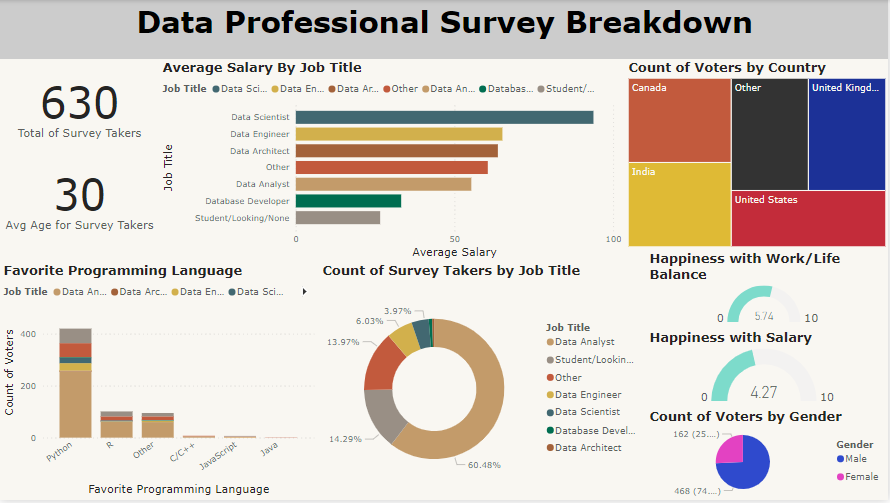

Layout of this report page (visuals, bound fields, positions):
{"tool":"powerbi","page":{"name":"Page 1","canvas":[1280,720],"ordinal":0},"visuals":[{"type":"textbox","box":[0,0,1280.2,85],"z":0},{"type":"card","fields":{"Values":["Count(Data Professional Survey.Unique ID)"]},"box":[701.3,85,229,151.2],"z":1000},{"type":"card","fields":{"Values":["Avg(Data Professional Survey.Q10 - Current Age)"]},"box":[701.3,223.2,229,136.8],"z":2000},{"type":"barChart","title":"Average Salary By Job Title","fields":{"Category":["Data Professional Survey.Q1 - Which Title Best Fits your Current Role?.1"],"Y":["Avg(Data Professional Survey.Average Salary)"],"Series":["Data Professional Survey.Q1 - Which Title Best Fits your Current Role?.1"]},"box":[216,85,485.3,275],"z":3000},{"type":"columnChart","title":"Favorite Programming Language","fields":{"Category":["Data Professional Survey.Q5 - Favorite Programming Language.1"],"Y":["CountNonNull(Data Professional Survey.Unique ID)"],"Series":["Data Professional Survey.Q1 - Which Title Best Fits your Current Role?.1"]},"box":[0,360,459.4,358.6],"z":4000},{"type":"donutChart","fields":{"Category":["Data Professional Survey.Q1 - Which Title Best Fits your Current Role?.1"],"Y":["CountNonNull(Data Professional Survey.Unique ID)"]},"box":[459.4,375.8,470.9,344.2],"z":5000},{"type":"treemap","title":"Count of Voters by Country","fields":{"Group":["Data Professional Survey.Q11 - Which Country do you live in?.1"],"Values":["Count(Data Professional Survey.Q11 - Which Country do you live in?.1)"]},"box":[930.2,85,349.9,275],"z":6000},{"type":"gauge","title":"Happiness with Work/Life Balance","fields":{"Y":["Avg(Data Professional Survey.Q6 - How Happy are you in your Current Position with the following? (Work/Life Balance))"],"MinValue":["Min(Data Professional Survey.Q6 - How Happy are you in your Current Position with the following? (Work/Life Balance))"],"MaxValue":["Max(Data Professional Survey.Q6 - How Happy are you in your Current Position with the following? (Work/Life Balance))1"]},"box":[930.2,360,349.9,180],"z":7000},{"type":"pieChart","title":"Count of Voters by Gender","fields":{"Category":["Data Professional Survey.Q9 - Male/Female?"],"Y":["CountNonNull(Data Professional Survey.Unique ID)"]},"box":[0,85,216,275],"z":8000},{"type":"gauge","title":"Happiness with Salary","fields":{"Y":["Avg(Data Professional Survey.Q6 - How Happy are you in your Current Position with the following? (Salary))"],"MinValue":["Min(Data Professional Survey.Q6 - How Happy are you in your Current Position with the following? (Salary))1"],"MaxValue":["Max(Data Professional Survey.Q6 - How Happy are you in your Current Position with the following? (Salary))2"]},"box":[930,540,350,180],"z":9000}]}

Visuals, with their boxes in screenshot pixels (x1, y1, x2, y2), scaled from the page's 1280x720 canvas onto the 890x503 screenshot:
textbox: bbox=(0, 0, 889, 59)
card - Count(Data Professional Survey.Unique ID): bbox=(488, 59, 647, 165)
card - Avg(Data Professional Survey.Q10 - Current Age): bbox=(488, 156, 647, 252)
"Average Salary By Job Title" barChart: bbox=(150, 59, 488, 252)
"Favorite Programming Language" columnChart: bbox=(0, 252, 319, 502)
donutChart - Data Professional Survey.Q1 - Which Title Best Fits your Current Role?.1 x CountNonNull(Data Professional Survey.Unique ID): bbox=(319, 263, 647, 502)
"Count of Voters by Country" treemap: bbox=(647, 59, 889, 252)
"Happiness with Work/Life Balance" gauge: bbox=(647, 252, 889, 377)
"Count of Voters by Gender" pieChart: bbox=(0, 59, 150, 252)
"Happiness with Salary" gauge: bbox=(647, 377, 889, 502)
